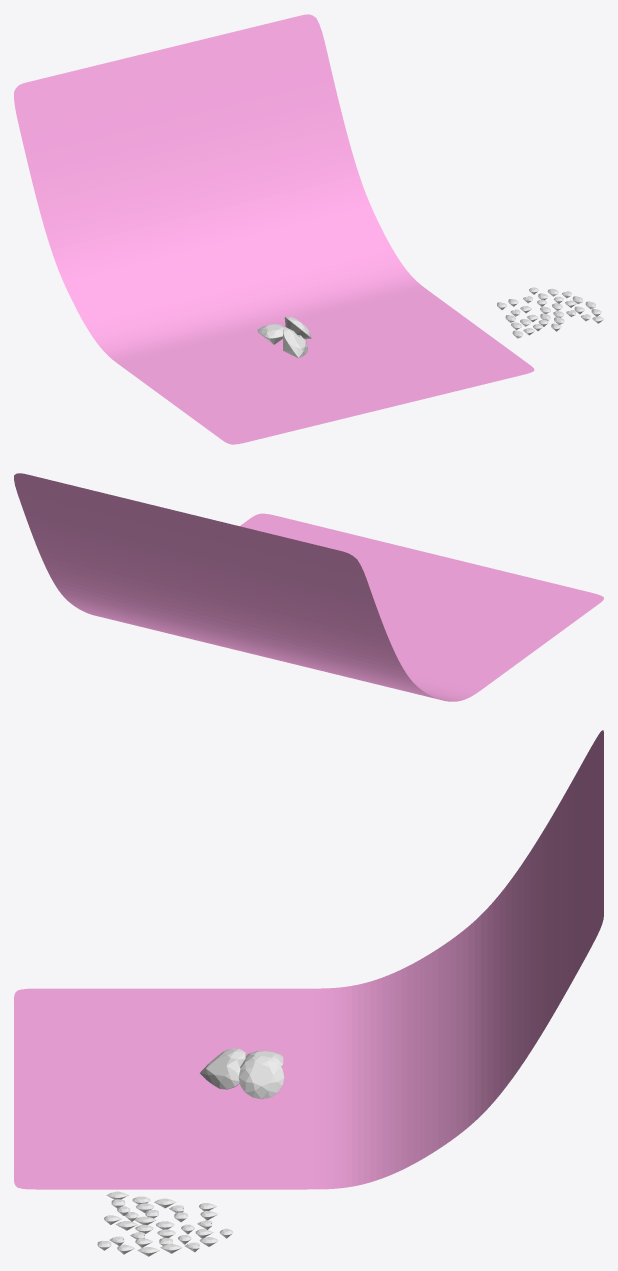
File: diamond sym.fbx
3 renders of one model, top to bottom at view 1: azimuth 30°, elevation 25°; view 2: azimuth 150°, elevation 25°; view 3: azimuth 270°, elevation 25°, orthographic. The views are drawn at different scales.
Parts seen in each view (by area): view 1: Plane; view 2: Plane; view 3: Plane, Cylinder.014, Cylinder.010.
Boxes of the visible parts, x1,y1,x2,y2 form: Plane: (14, 14, 534, 444); Plane: (14, 473, 603, 701); Plane: (14, 730, 603, 1189); Cylinder.014: (238, 1056, 284, 1099); Cylinder.010: (200, 1048, 245, 1089).
Bounding box in the file's own units: 2748 × 1260 × 2531.
